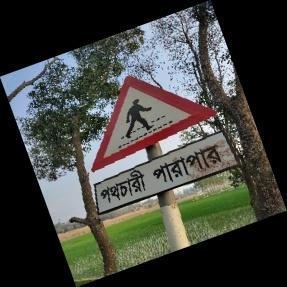Pedestrian-crossing: (89, 75, 236, 217)
